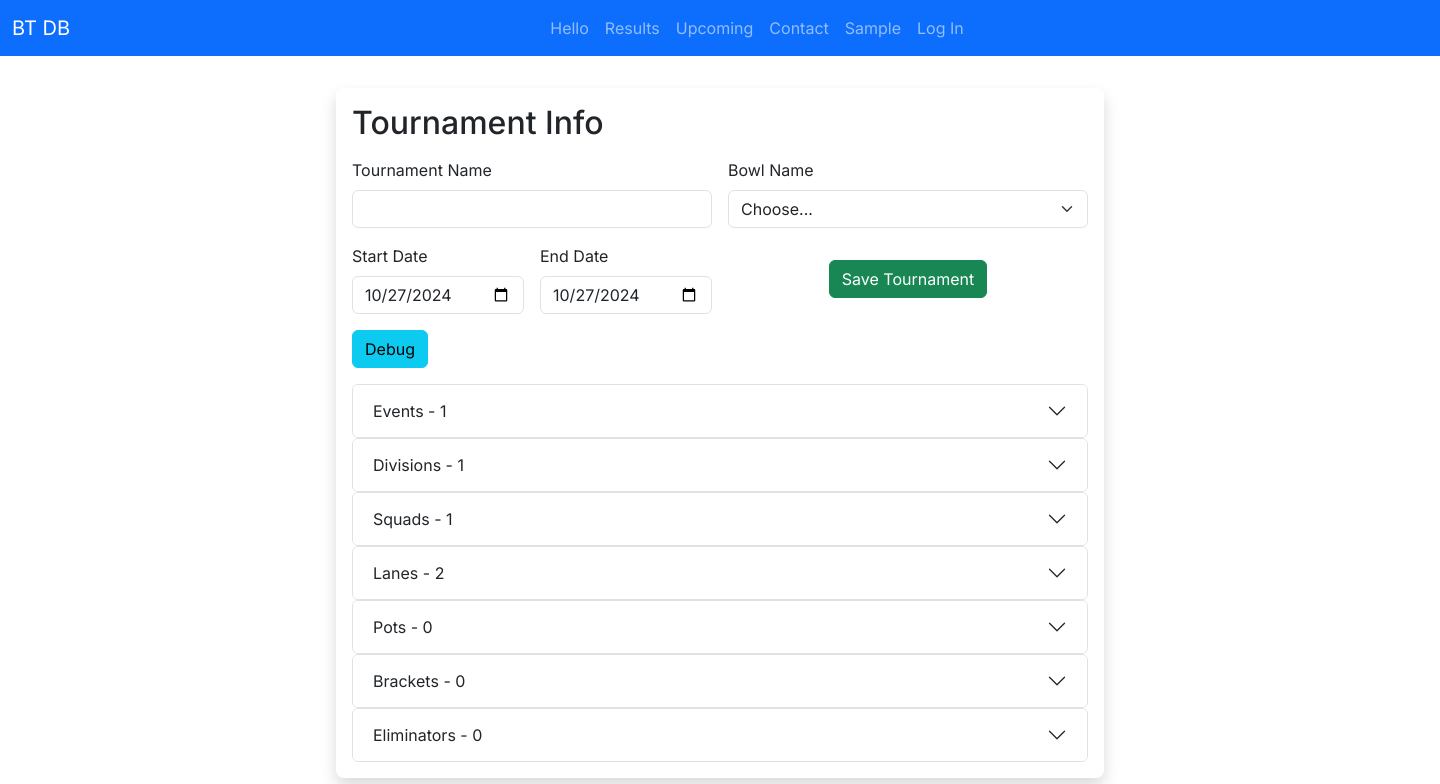
Test: TmntDataPage - Squads Component › render the squad game errors › render the more than max squad game error
Click the button "Squads - 1" at x=410, y=519, box [353,493,1087,545]
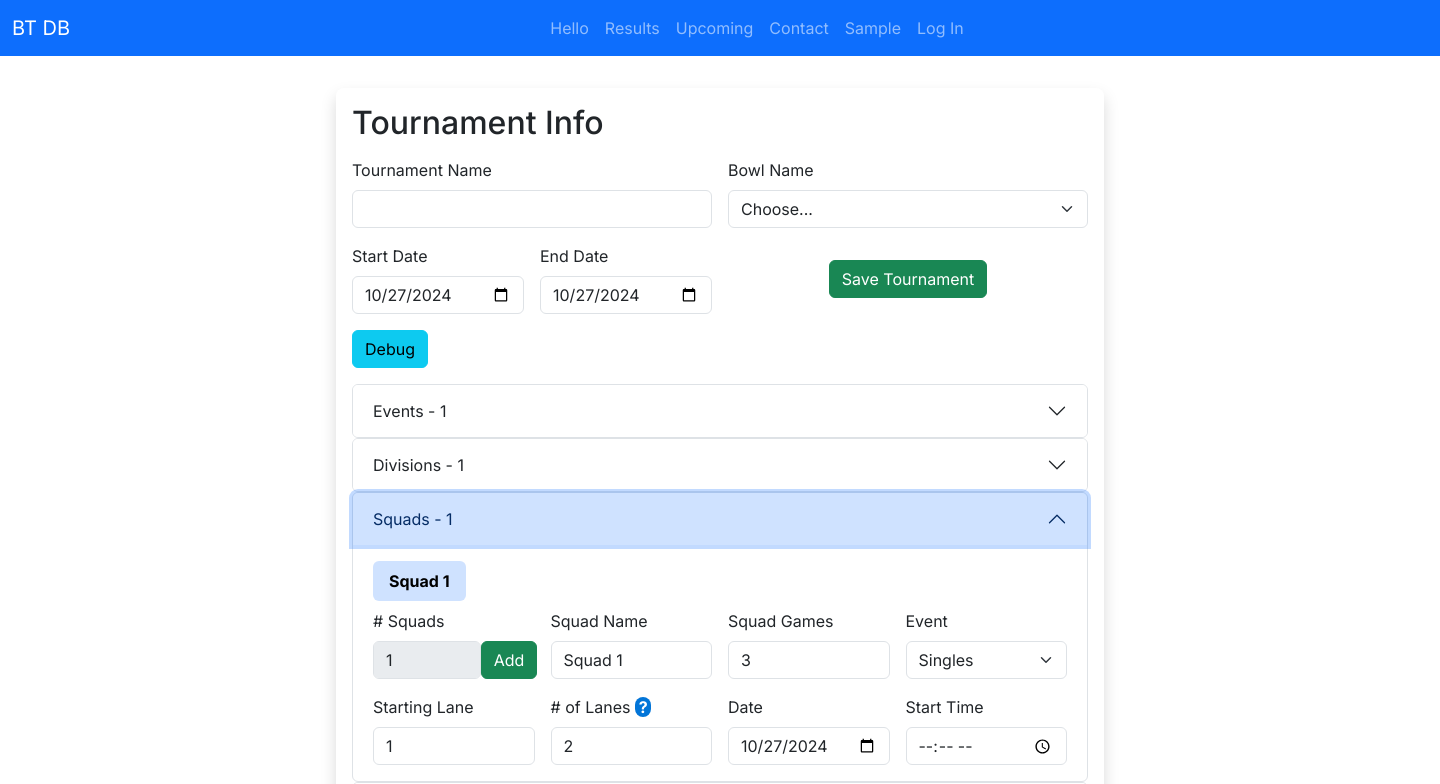
enter less than min value
Replace the text in the number field labelled "Squad Games" with "4" at x=809, y=660, box [728,641,890,679]
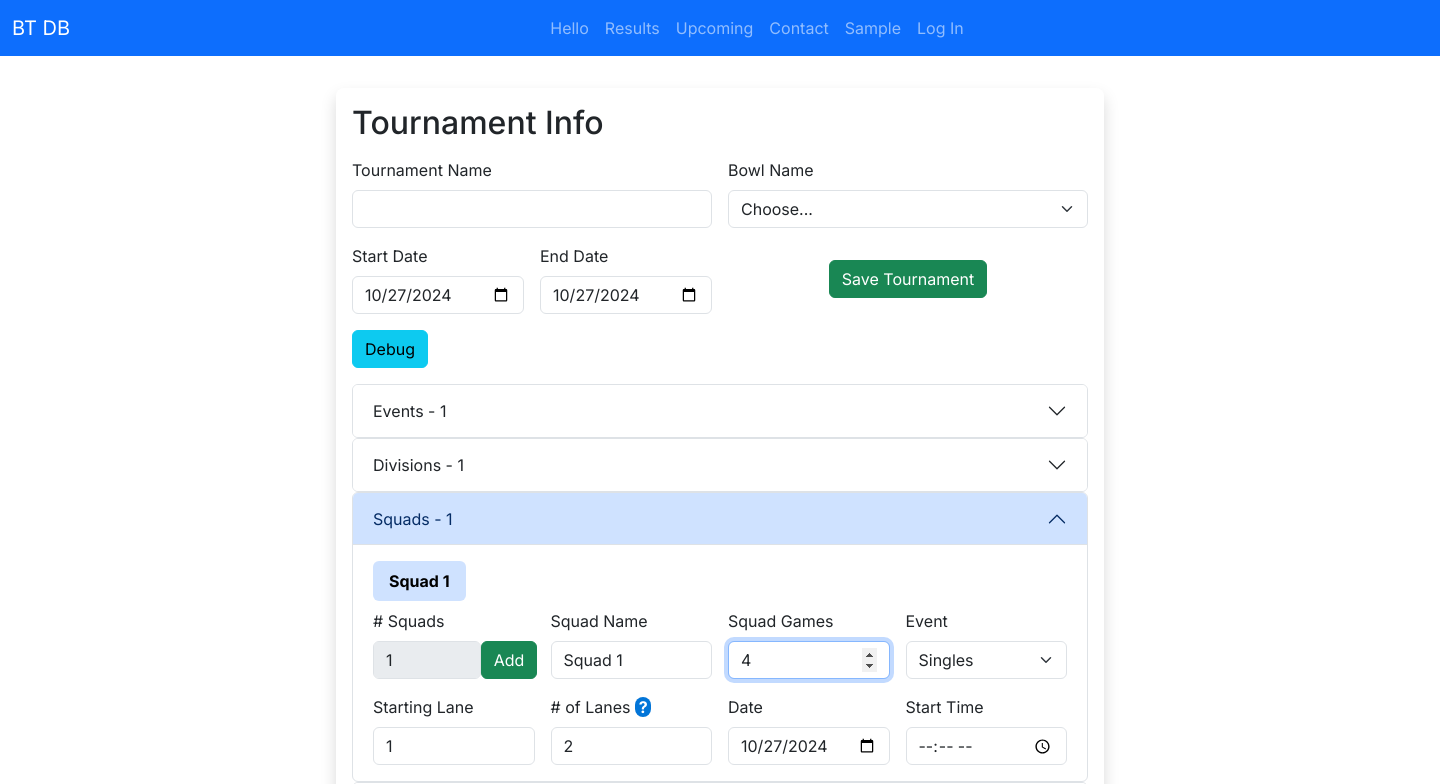
should show error
Click the button "Save Tournament" at x=908, y=279, box [829,260,987,298]
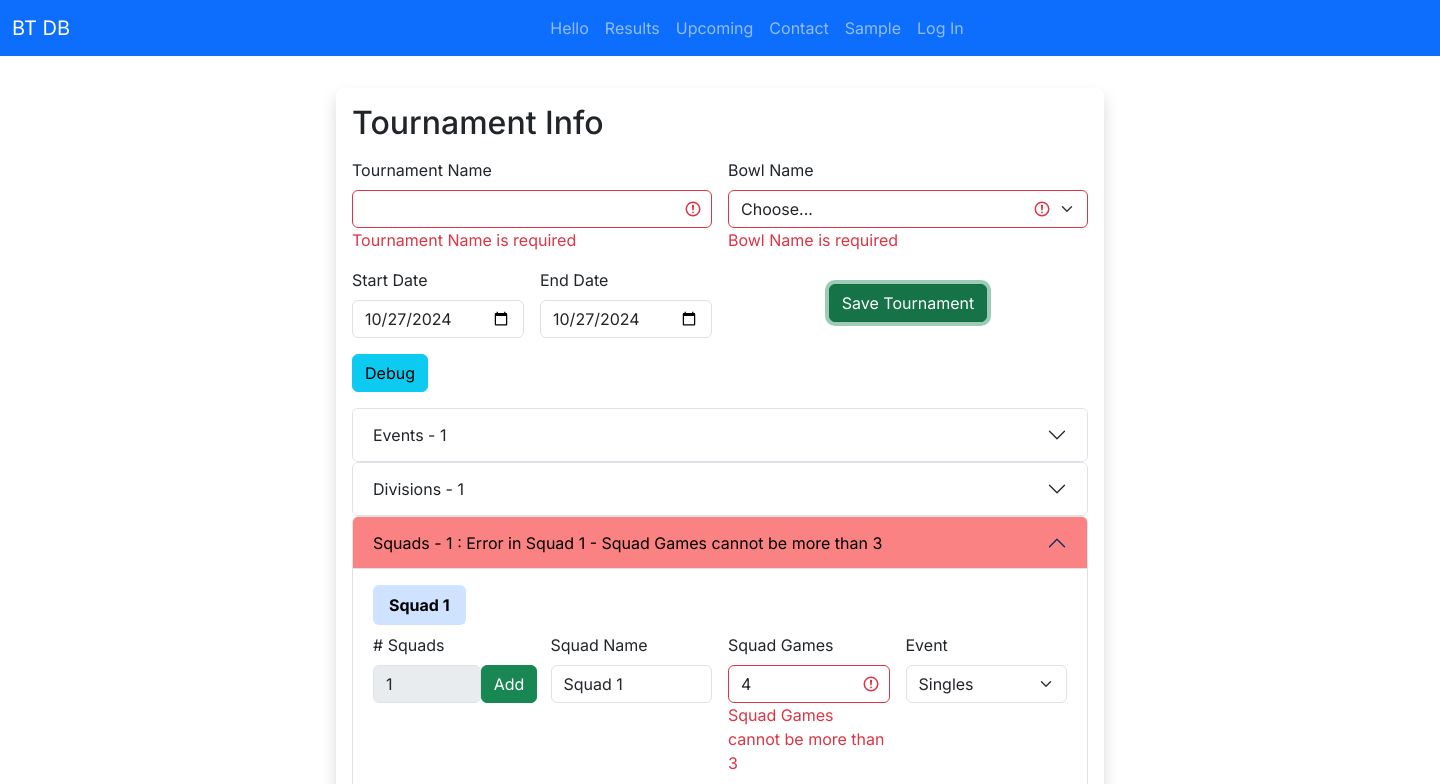
Now the text with test id "dangerSquadGames" shows "Games cannot be more than", box [728,705,884,773]
Now the button "Squads" shows "Games cannot be more than", box [353,517,1087,569]
